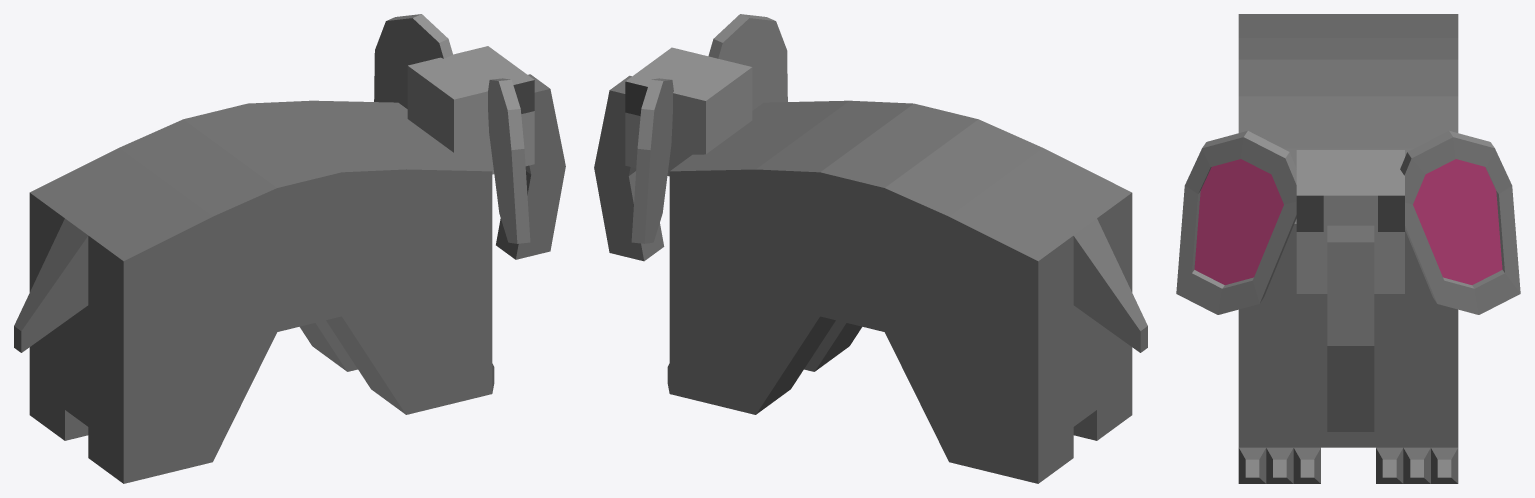
Rendered from PolyELEFANT.fbx.
3 views of the same model, side by side, from view 1: azimuth 30°, elevation 25°; view 2: azimuth 150°, elevation 25°; view 3: azimuth 270°, elevation 25° (orthographic). The views are drawn at different scales.
Visible parts, largest first — view 1: Cube, Cube.001, Cylinder.001, Cube.002; view 2: Cube, Cylinder.001, Cube.001, Cube.002; view 3: Cube, Cylinder.001, Cube.001, Cube.002.
Boxes of the visible parts, x1,y1,x2,y2 form: Cube: [14, 100, 494, 483]; Cube.001: [407, 46, 534, 174]; Cylinder.001: [374, 14, 530, 243]; Cube.002: [496, 74, 565, 259]; Cube: [667, 100, 1147, 483]; Cylinder.001: [631, 14, 787, 243]; Cube.001: [625, 47, 752, 176]; Cube.002: [594, 75, 664, 261]; Cube: [1238, 14, 1458, 483]; Cylinder.001: [1176, 131, 1520, 314]; Cube.001: [1296, 150, 1404, 293]; Cube.002: [1327, 225, 1374, 431].
Bounding box in the file's own units: 868 × 473 × 411.
